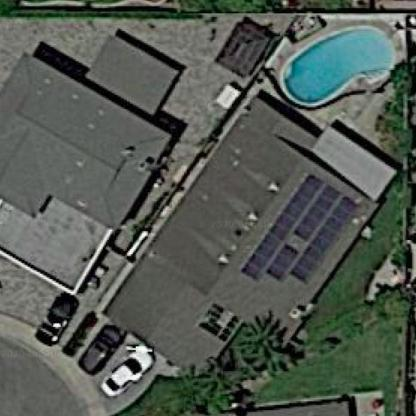car: (94, 336, 156, 399), (29, 286, 84, 345), (72, 321, 123, 374)
solar_panel: (241, 164, 361, 287)
swimming_pool: (277, 18, 399, 115)
